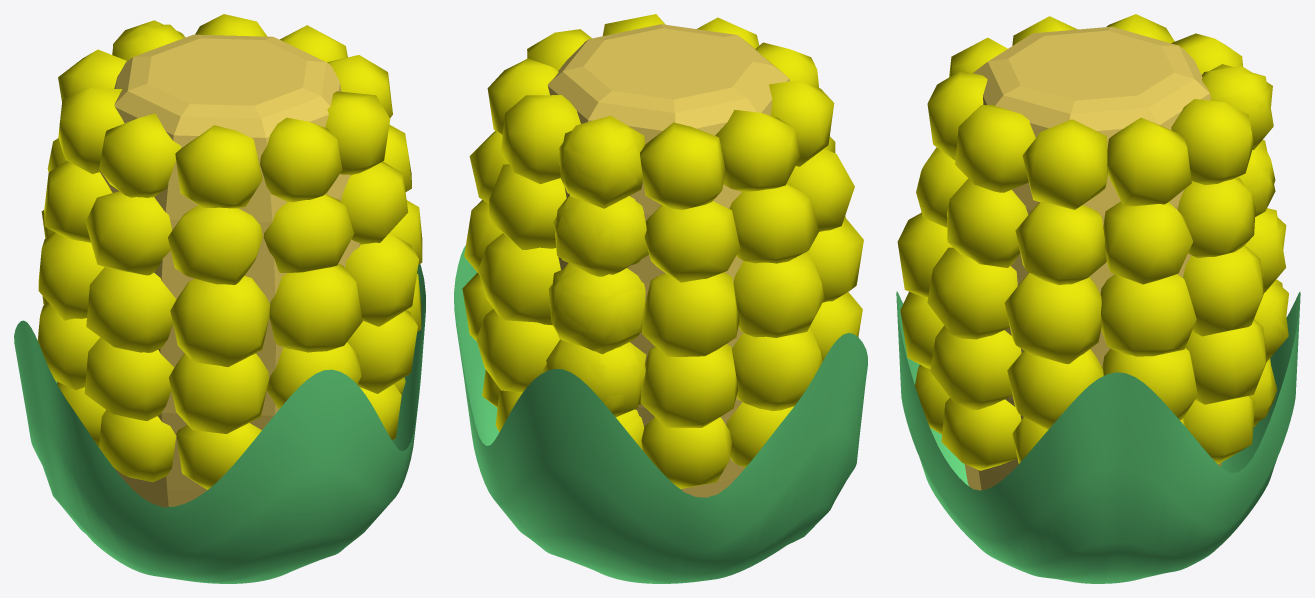
Rendered from CornCob.fbx.
3 renders of one model, left to right at view 1: azimuth 30°, elevation 25°; view 2: azimuth 150°, elevation 25°; view 3: azimuth 270°, elevation 25°, orthographic.
Visible parts, largest first — view 1: Cylinder; view 2: Cylinder; view 3: Cylinder.
Boxes of the visible parts, x1=… form: Cylinder: x1=14, y1=14, x2=425, y2=583; Cylinder: x1=454, y1=14, x2=867, y2=583; Cylinder: x1=896, y1=14, x2=1300, y2=583.
Size of the model in its own units: 163 by 176 by 221.
